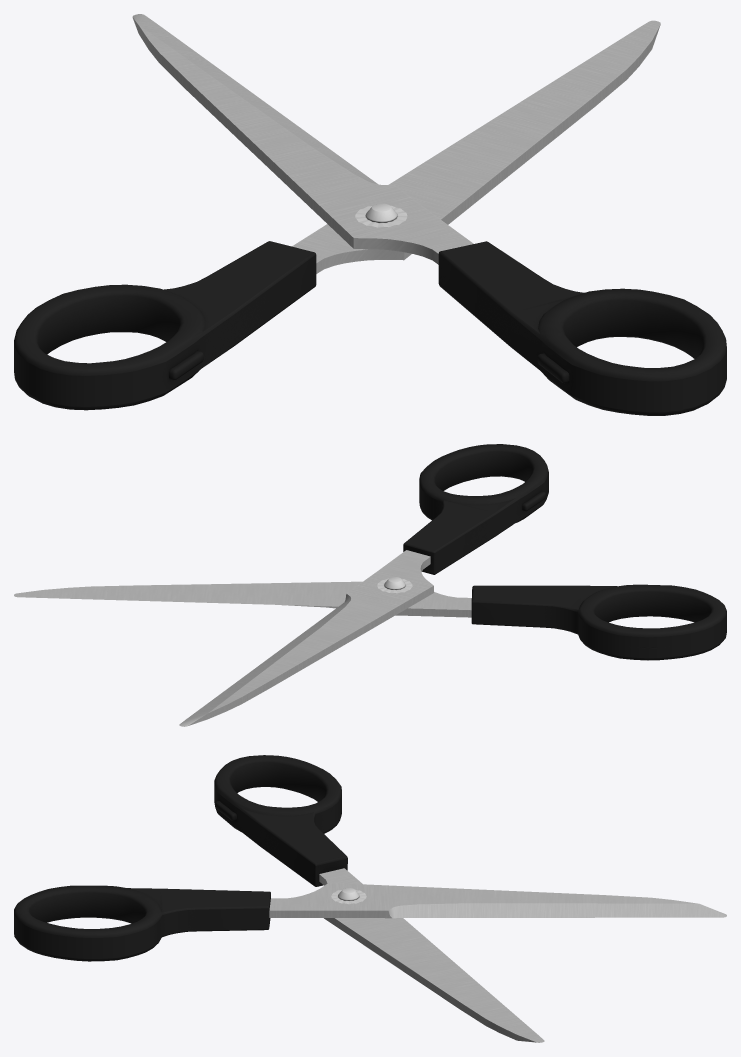
File: scissors.glb
3 renders of one model, top to bottom at view 1: azimuth 30°, elevation 25°; view 2: azimuth 150°, elevation 25°; view 3: azimuth 270°, elevation 25°, orthographic. The views are drawn at different scales.
Parts seen in each view (by area): view 1: top_blade, bottom_blade, pin; view 2: bottom_blade, top_blade; view 3: top_blade, bottom_blade.
Boxes of the visible parts, x1,y1,x2,y2 form: top_blade: [132, 14, 726, 415]; bottom_blade: [14, 20, 660, 410]; pin: [355, 203, 407, 227]; bottom_blade: [14, 581, 726, 660]; top_blade: [179, 444, 548, 726]; top_blade: [14, 883, 726, 961]; bottom_blade: [214, 755, 544, 1042].
Bounding box in the file's own units: 0.125 × 0.00634 × 0.1364.
1 material, 1 textured.
